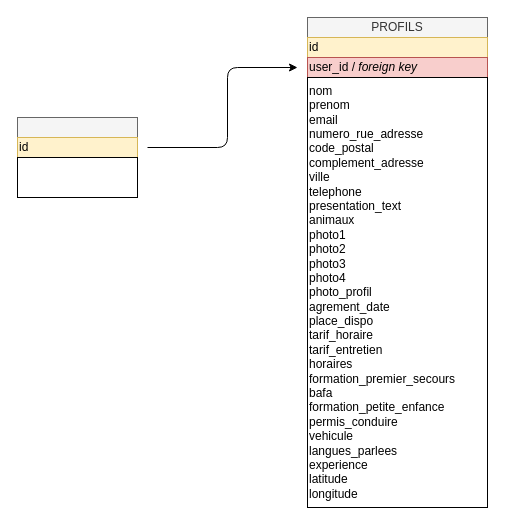
Image size: 505x525. Some labels were removed from this diagram. The shapes that lost their labels are listed below. From the top down, each one's centre as x and y in pixels, then its label:
At pixel 77 127: "USER".
At pixel 77 177: "email mot de passe".
